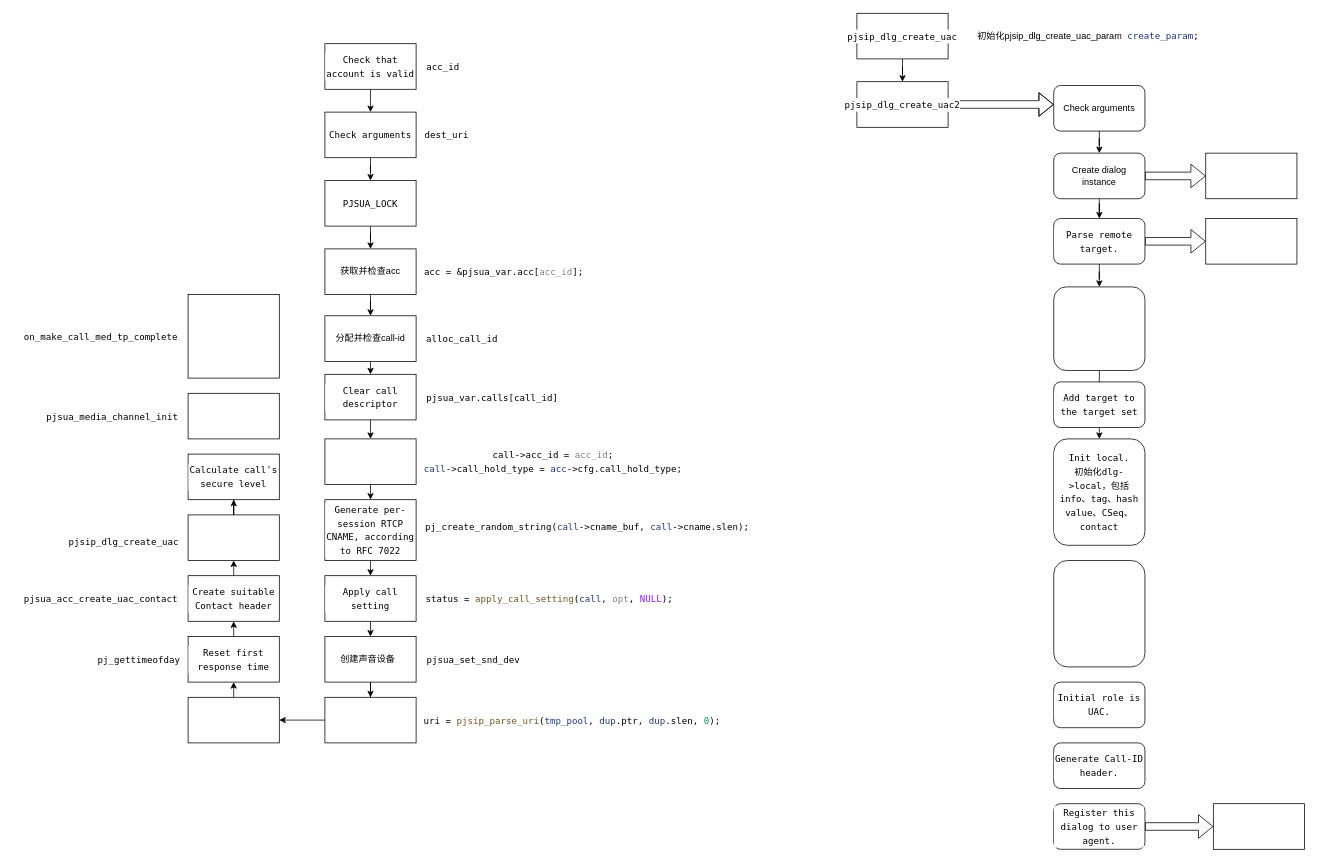
The diagram is 1329 pixels wide and 863 high, and some of its shapes have lost their labels. Here are the shapes that lost their labels. From the top down, the centre of each, then its label:
At pixel 1251 175: "create_dialog".
At pixel 1251 241: "pjsip_parse_uri".
At pixel 233 336: "Outgoing call callback when media transport creation is completed".
At pixel 1099 328: "Put any header param in the target URI into INVITE header list ？？？？".
At pixel 233 416: "初始化媒体流信道".
At pixel 370 461: "Associate session with account".
At pixel 233 537: "Create an UAC dialog".
At pixel 1099 613: "Init remote. 初始化dlg -> remote ，包括info、 tag、hash value、CSeq、contact".
At pixel 233 720: "Mark call start time.".
At pixel 370 720: "Verify and Parse that destination URI".
At pixel 1259 826: "pjsip_ua_register_dlg".
